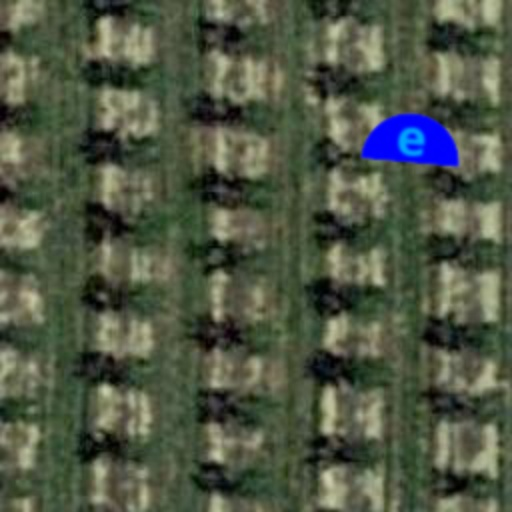semicircle: (358, 84, 466, 192)
